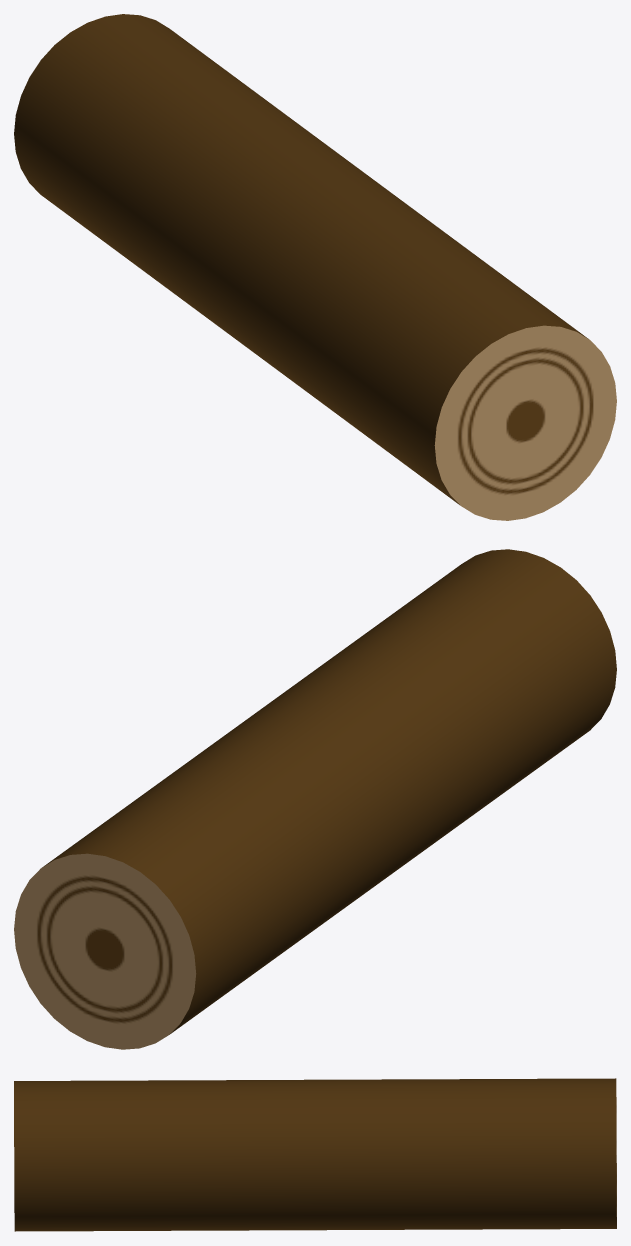
File: wood.fbx
3 renders of one model, top to bottom at view 1: azimuth 30°, elevation 25°; view 2: azimuth 150°, elevation 25°; view 3: azimuth 270°, elevation 25°, orthographic. The views are drawn at different scales.
Visible parts, largest first — view 1: Cylinder; view 2: Cylinder; view 3: Cylinder.
Part boxes in pixels (x1,y1,x2,y2): Cylinder: (14,14,616,520); Cylinder: (14,549,616,1049); Cylinder: (14,1078,616,1231).
Bounding box in the file's own units: 100 × 102 × 400.
1 material, 1 textured.
